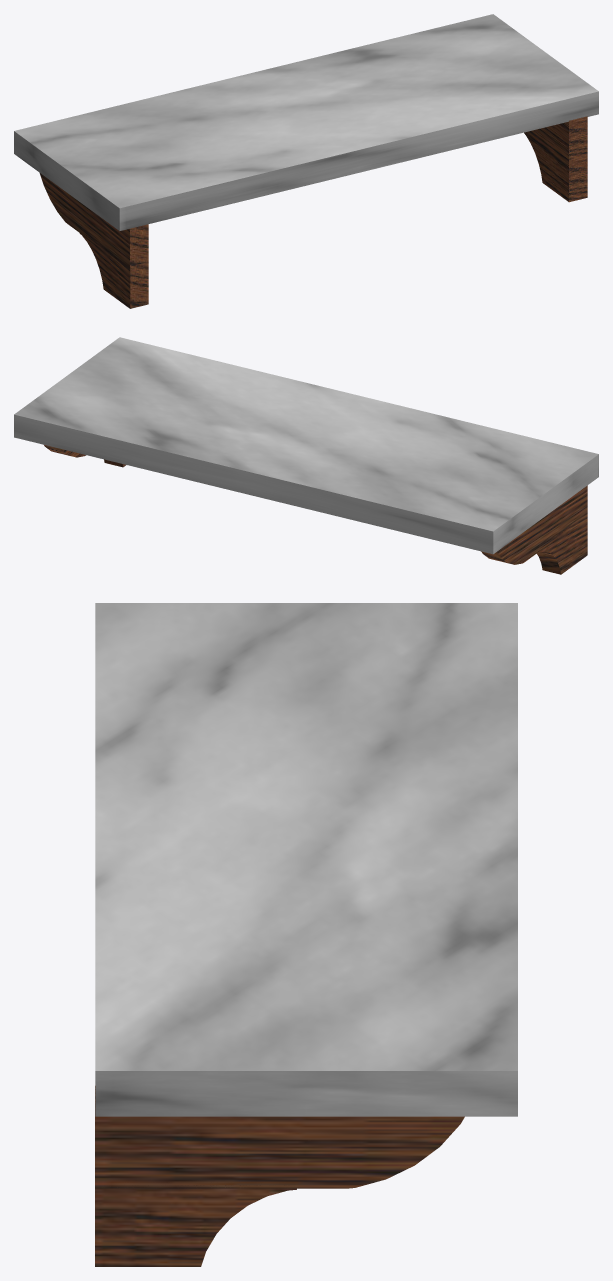
Rendered from Countertop_WhiteMarble.glb.
The picture shows the model from 3 angles, top to bottom: view 1: azimuth 30°, elevation 25°; view 2: azimuth 150°, elevation 25°; view 3: azimuth 270°, elevation 25°; orthographic projection. The views are drawn at different scales.
Visible parts, largest first — view 1: Cube.001; view 2: Cube.001; view 3: Cube.001.
Part boxes in pixels (box(x1,y1,x2,y2)): Cube.001: box(14, 14, 598, 308); Cube.001: box(14, 337, 598, 574); Cube.001: box(95, 603, 517, 1266).
Bounding box in the file's own units: 1.88 × 0.3891 × 0.7203.
Materials: 2 (2 with a texture image).
